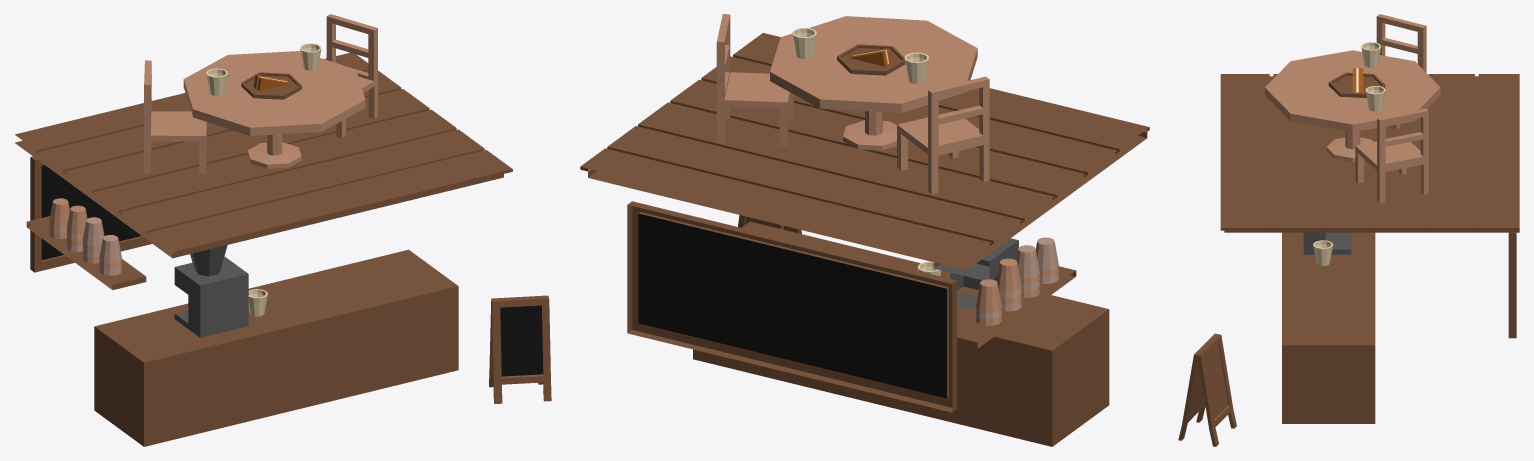
Rendered from firstModel.glb.
3 views of the same model, side by side, from view 1: azimuth 30°, elevation 25°; view 2: azimuth 150°, elevation 25°; view 3: azimuth 270°, elevation 25° (orthographic). The views are drawn at different scales.
Visible parts, largest first — view 1: group1; view 2: group1; view 3: group1.
Boxes of the visible parts, left/top/right/bottom form: group1: left=15, top=14, right=551, bottom=446; group1: left=580, top=14, right=1149, bottom=446; group1: left=1178, top=14, right=1519, bottom=446.
Size of the model in its own units: 3.83 by 3.08 by 3.29.
